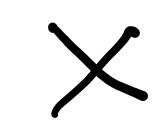mult: (45, 22, 148, 115)
